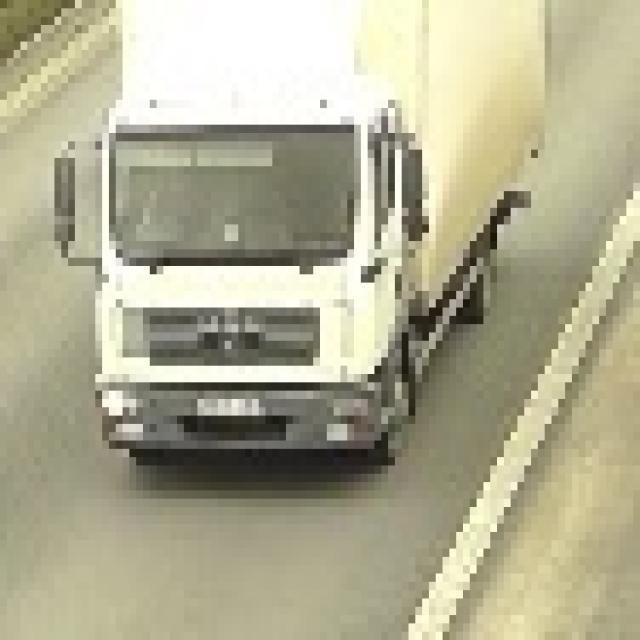truck: (54, 0, 544, 474)
